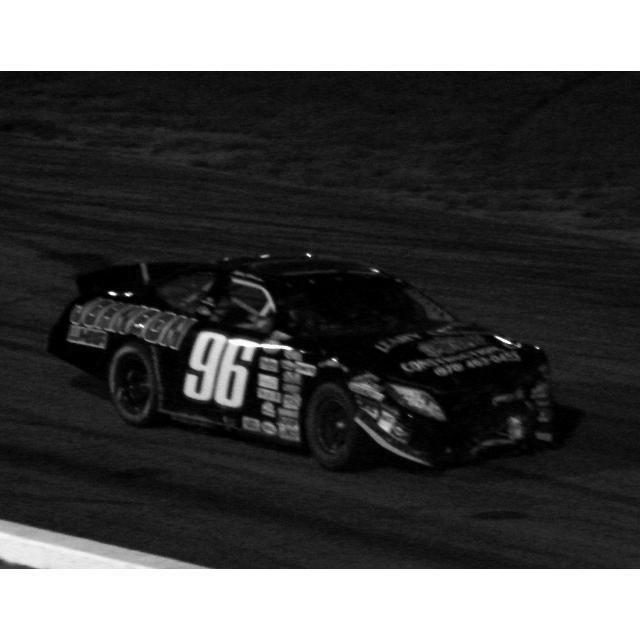front-bumper-dent: (410, 388, 556, 461)
